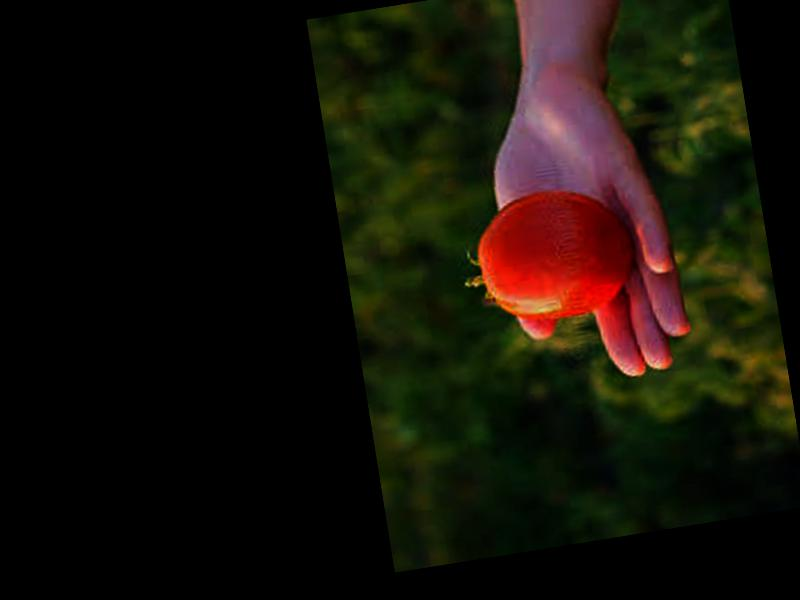Tomato: (471, 180, 644, 327)
